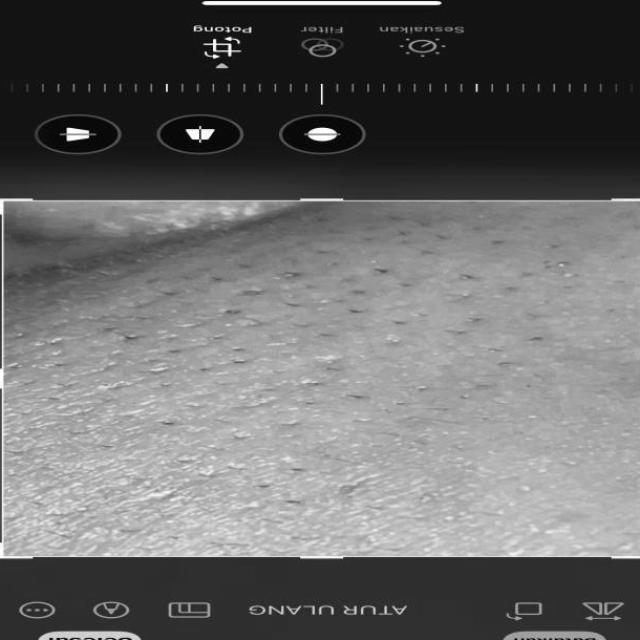blackhead: (14, 203, 620, 525)
